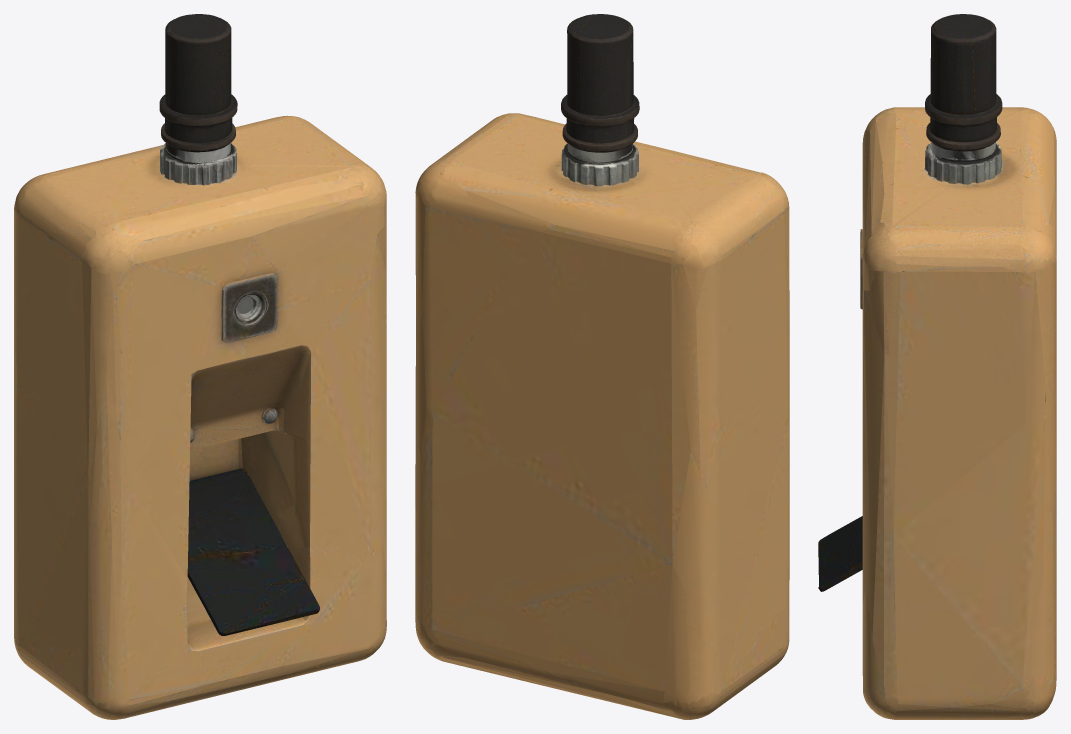
File: lettore_1.glb
3 views of the same model, side by side, from view 1: azimuth 30°, elevation 25°; view 2: azimuth 150°, elevation 25°; view 3: azimuth 270°, elevation 25° (orthographic).
Visible parts, largest first — view 1: Mesh_0; view 2: Mesh_0; view 3: Mesh_0.
Part boxes in pixels (x1=…): Mesh_0: x1=14, y1=14, x2=386, y2=719; Mesh_0: x1=415, y1=14, x2=789, y2=719; Mesh_0: x1=818, y1=14, x2=1056, y2=719.
Bounding box in the file's own units: 0.1 × 0.2026 × 0.0692.
Materials: 1 (1 with a texture image).
